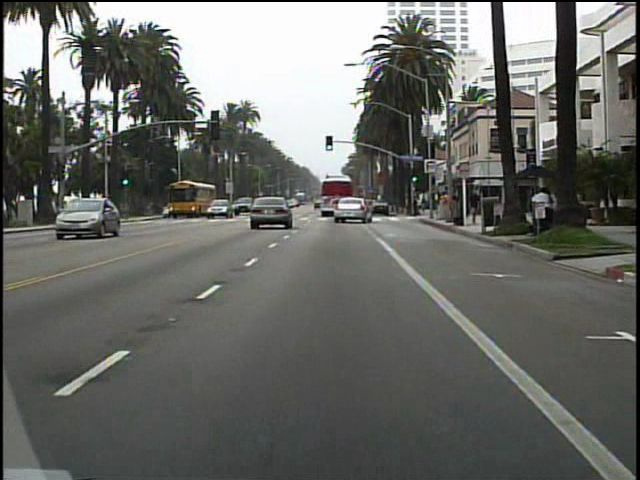person: (530, 182, 555, 238), (468, 184, 482, 228)
